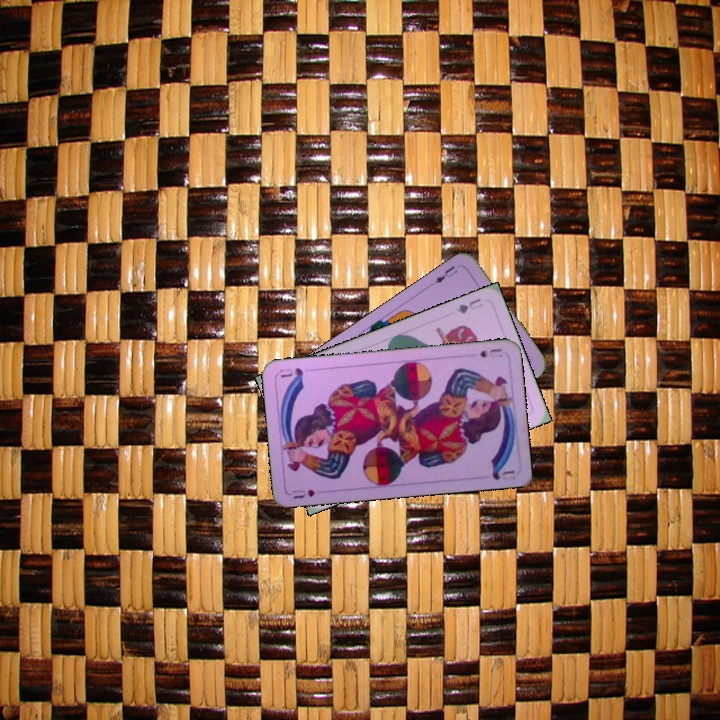EU: (427, 261, 464, 288)
GU: (453, 294, 485, 316)
SU: (288, 485, 318, 501), (476, 344, 504, 360)
